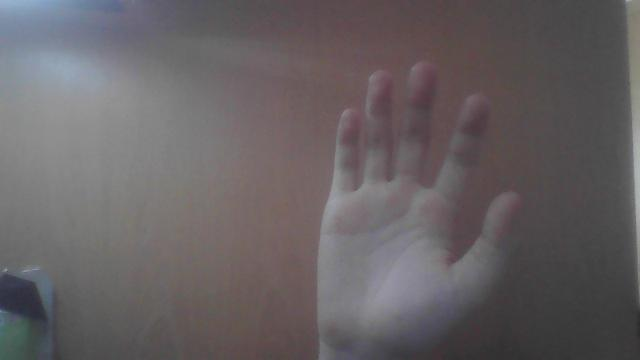Stop: (322, 55, 520, 360)
